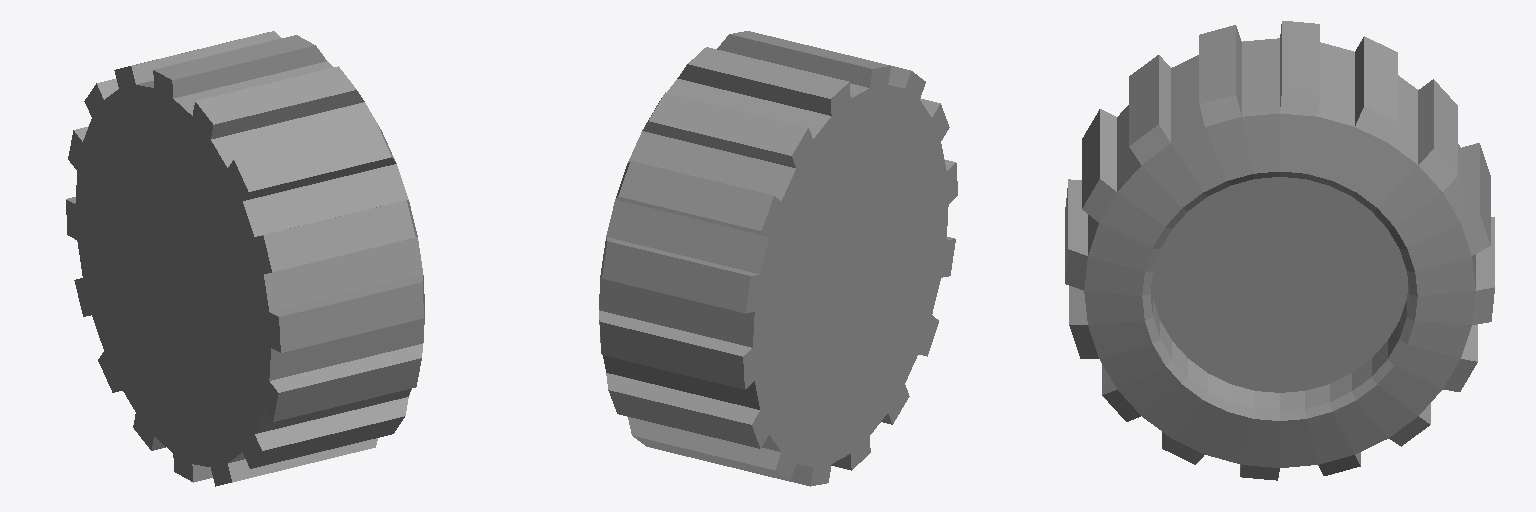
The model's file is wheel_other_side.obj.
The picture shows the model from 3 angles: view 1: azimuth 30°, elevation 25°; view 2: azimuth 150°, elevation 25°; view 3: azimuth 270°, elevation 25°; orthographic projection.
Visible parts, largest first — view 1: Cylinder_Cylinder.001; view 2: Cylinder_Cylinder.001; view 3: Cylinder_Cylinder.001.
Boxes of the visible parts, box(x1,y1,x2,y2) form: Cylinder_Cylinder.001: box(66, 31, 424, 486); Cylinder_Cylinder.001: box(599, 31, 957, 486); Cylinder_Cylinder.001: box(1065, 21, 1494, 480).
Size of the model in its own units: 0.3271 by 0.7373 by 0.7373.